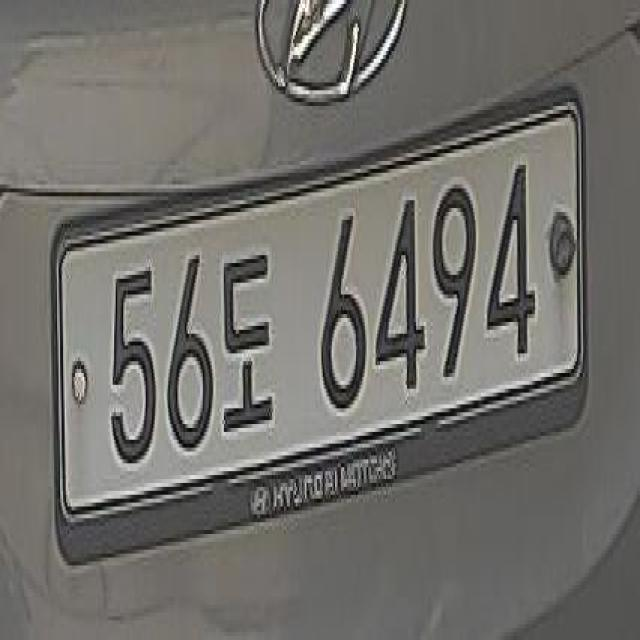illegal_plate: (44, 100, 602, 572)
